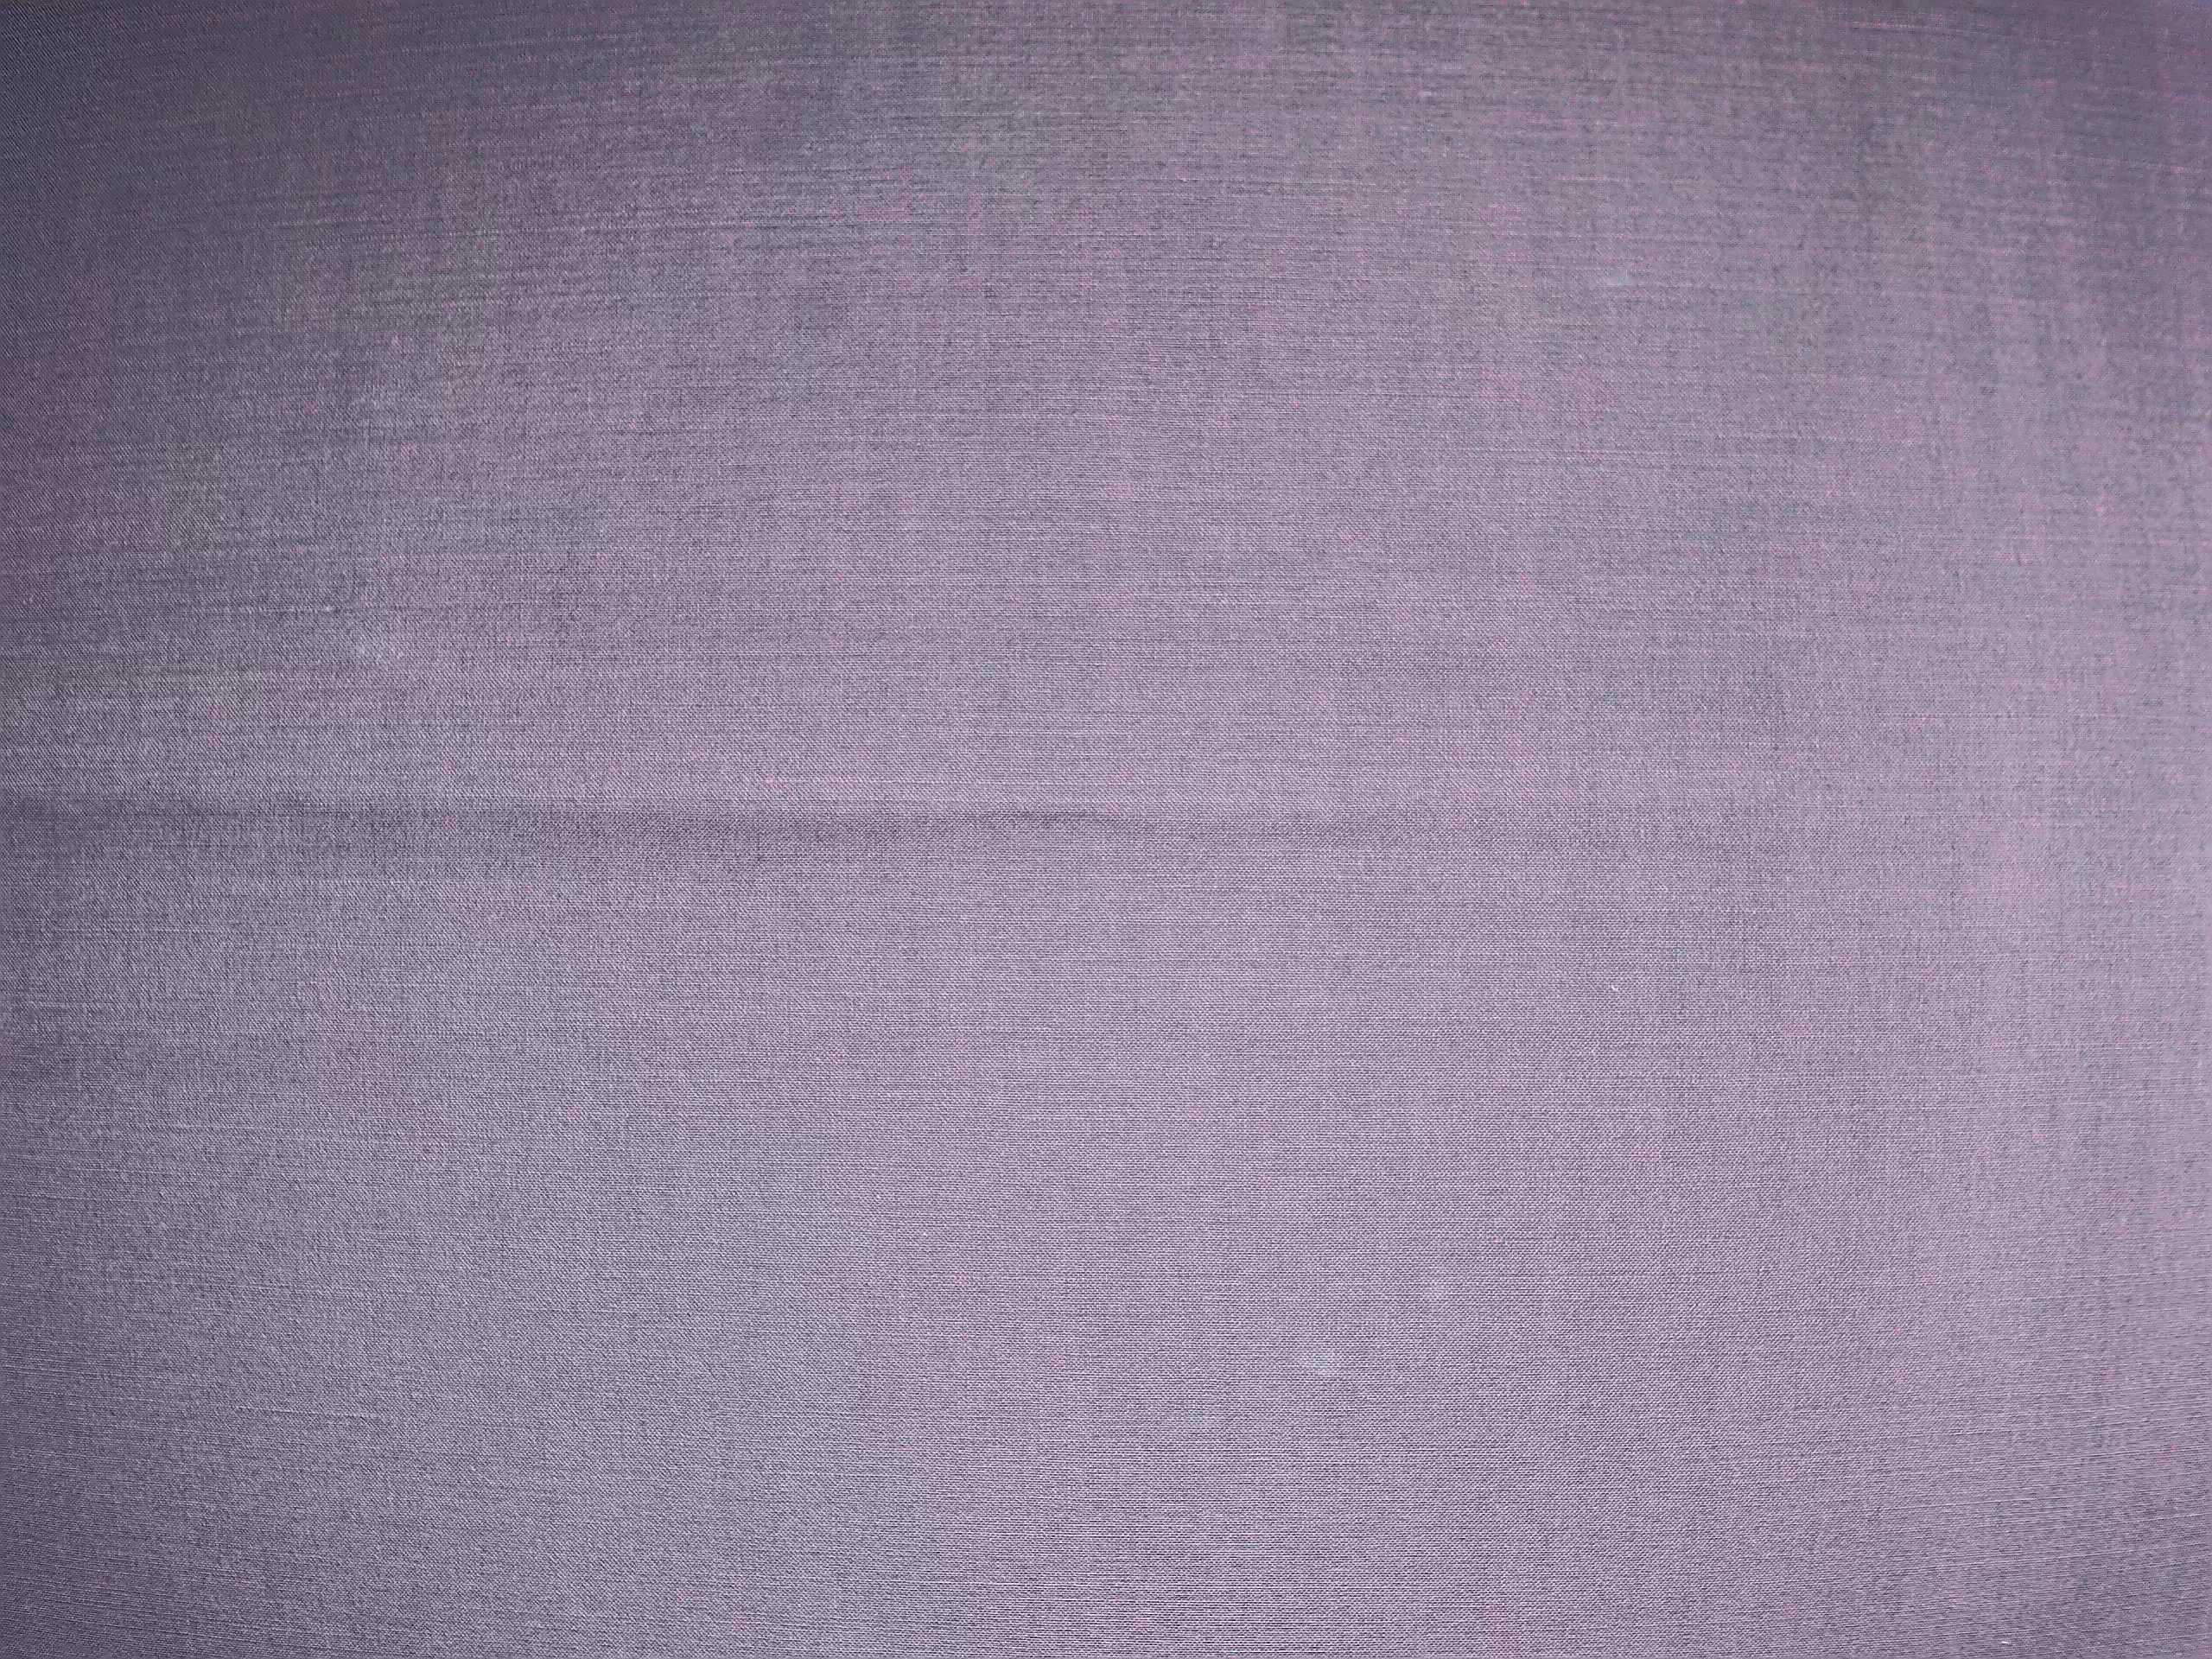others: (113, 589, 634, 634)
